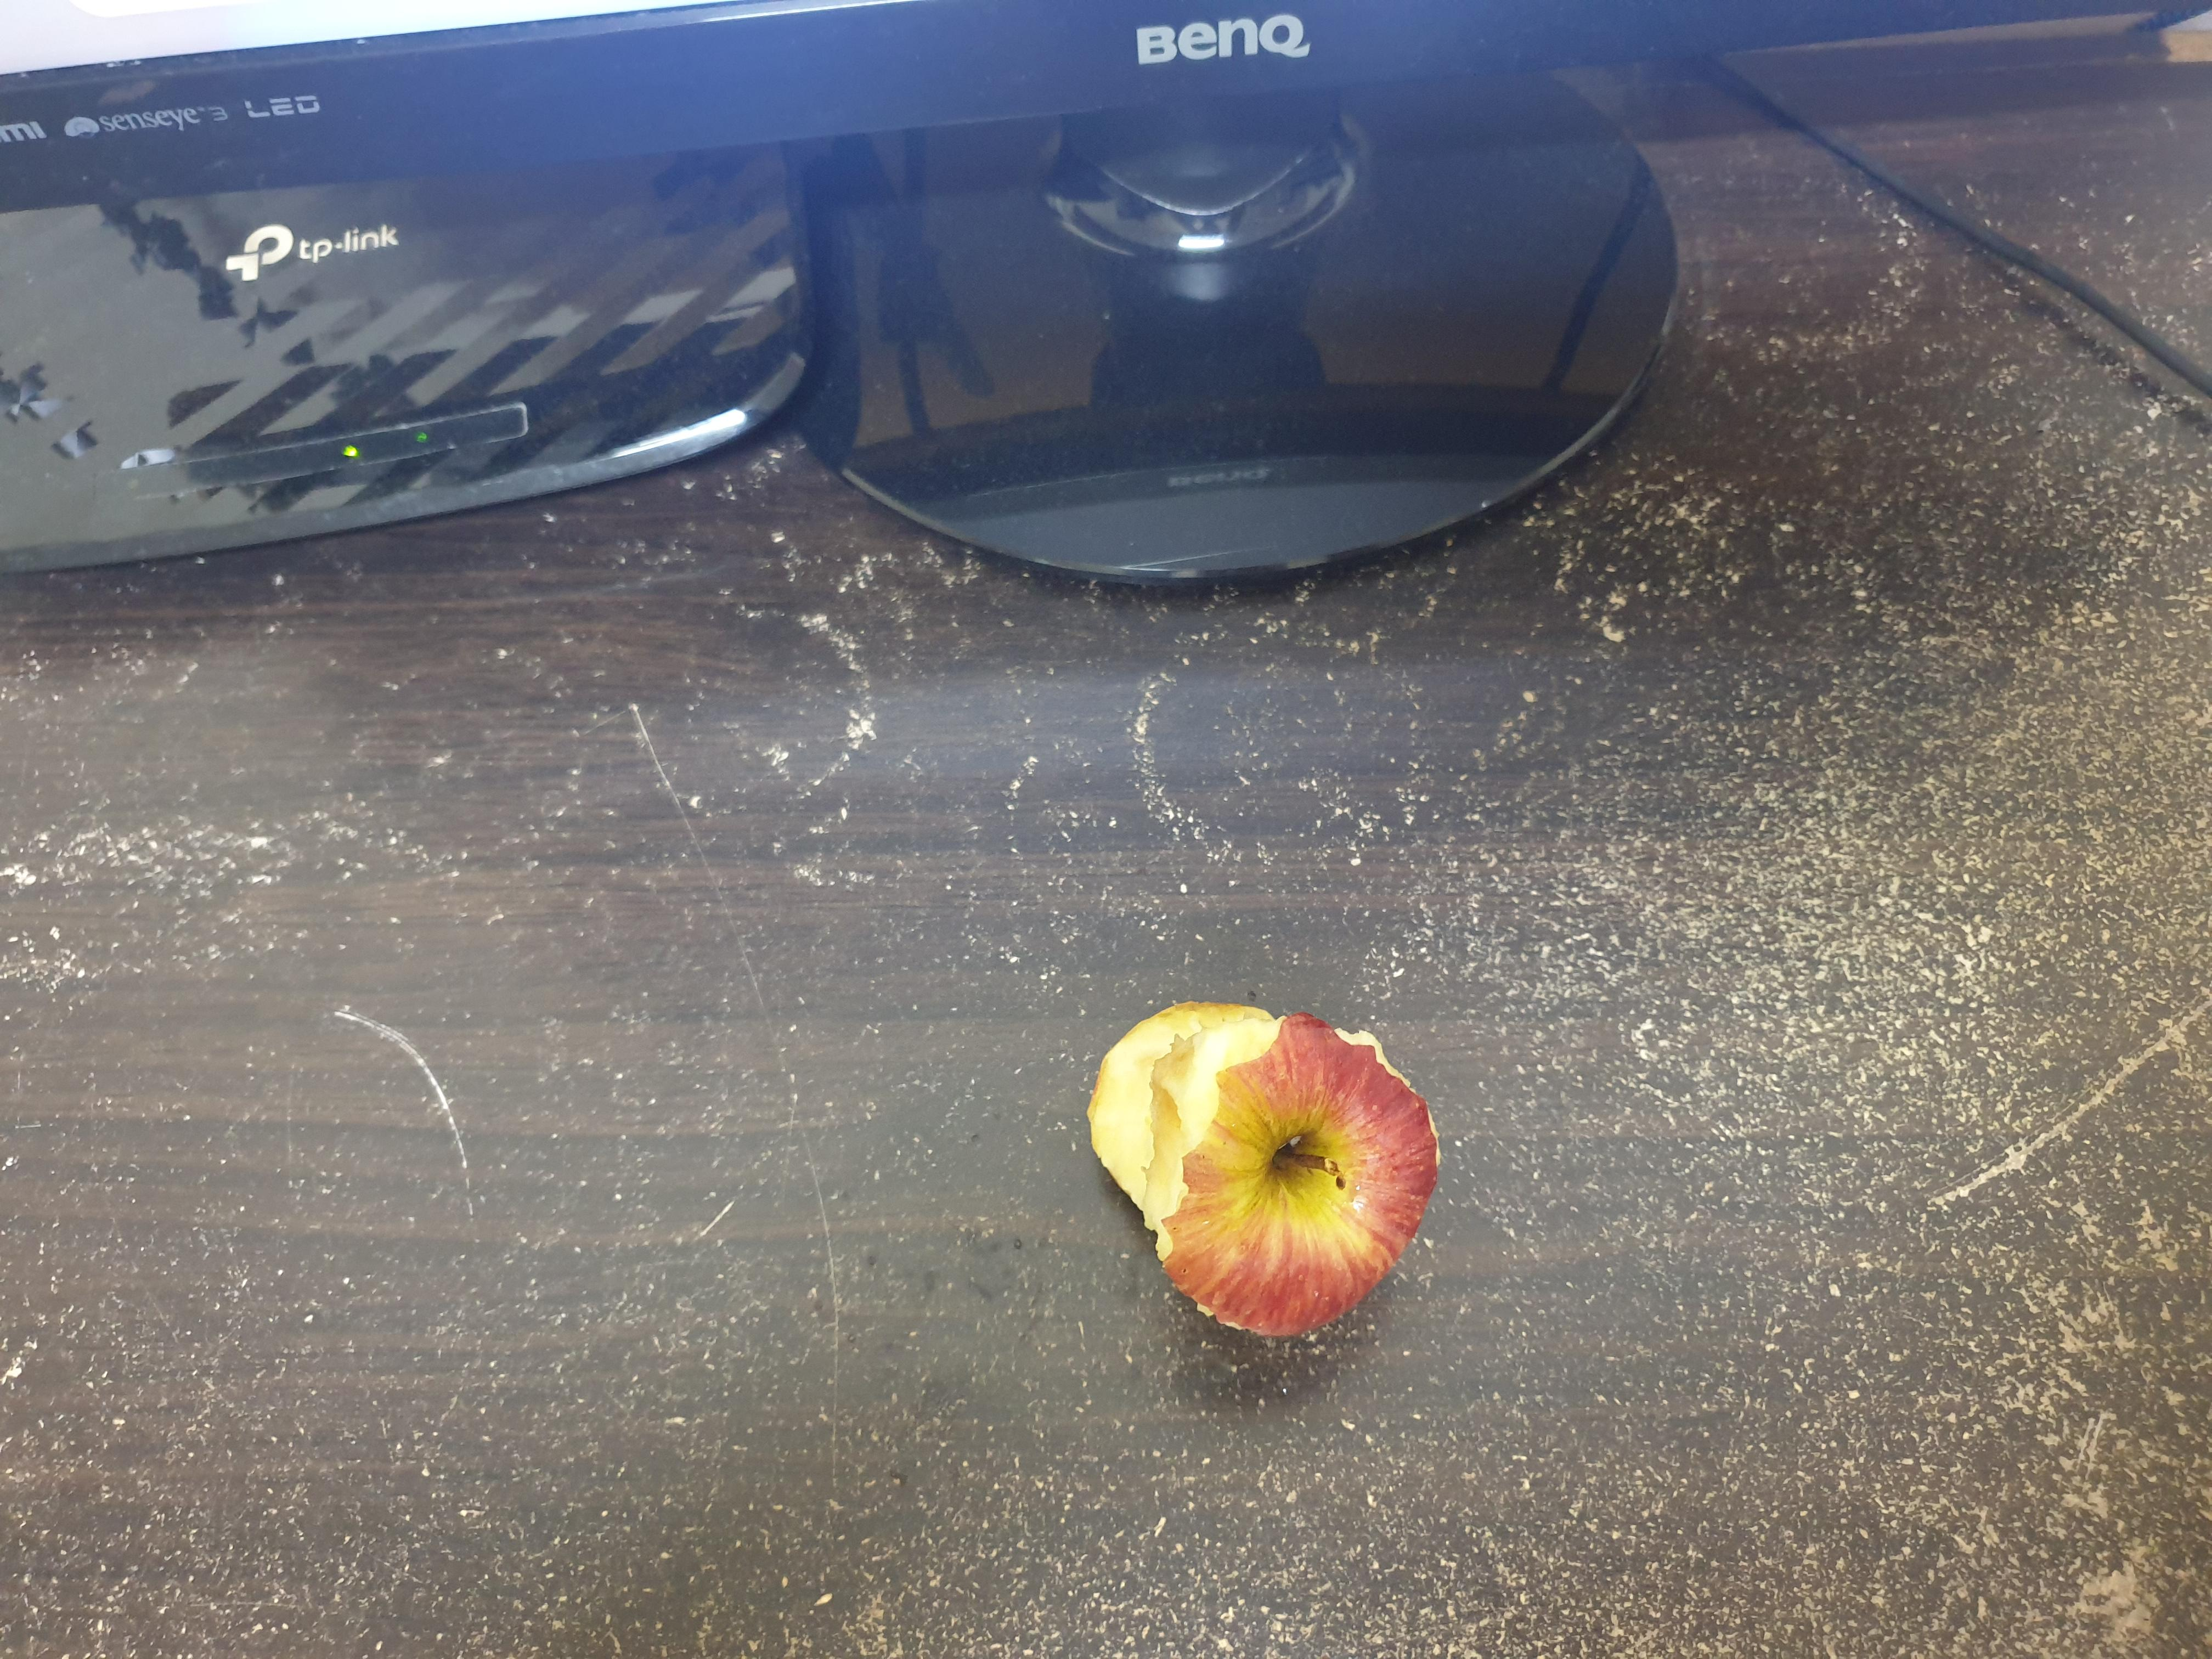Apple: (1080, 983, 1458, 1375)
